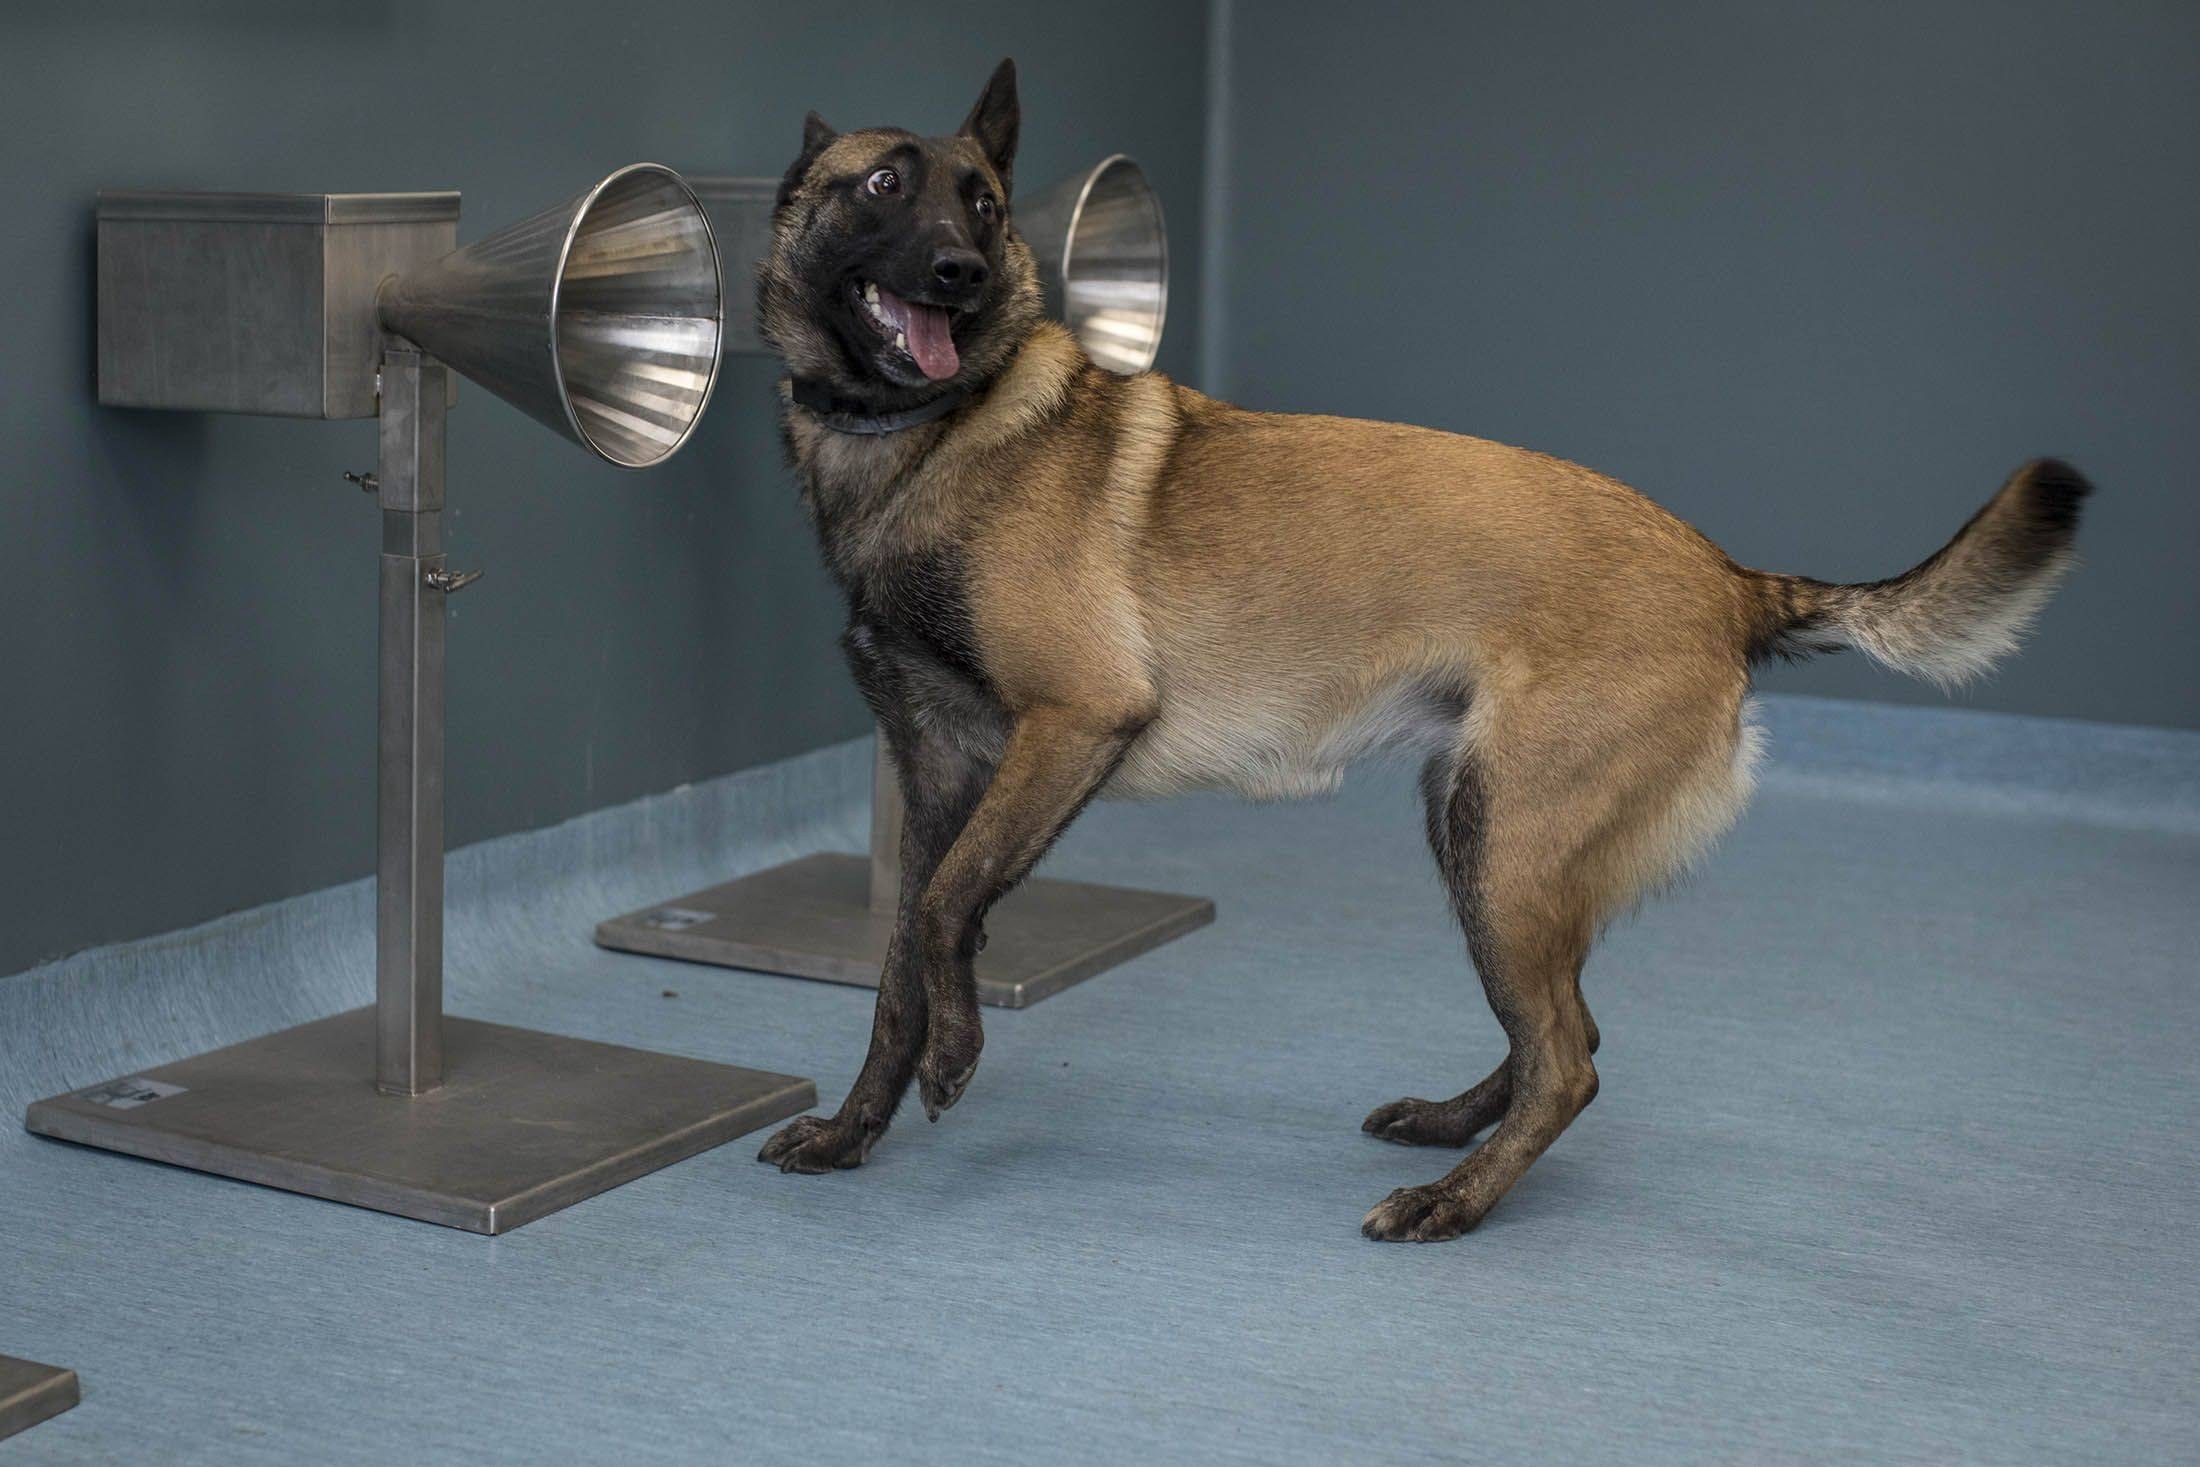dog: (640, 16, 1313, 552)
